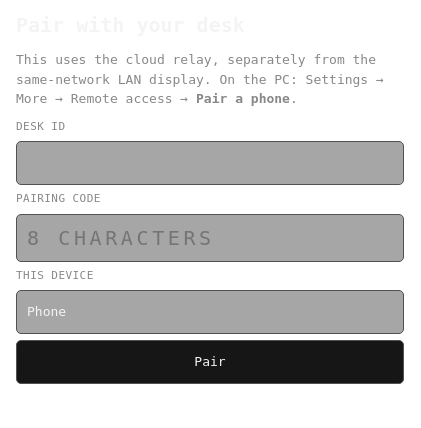
PairScreen › refuses an empty code before making a request
Type "desk-42" into the field with test id "pair-desk" at point(210, 163), box [16,141,404,185]
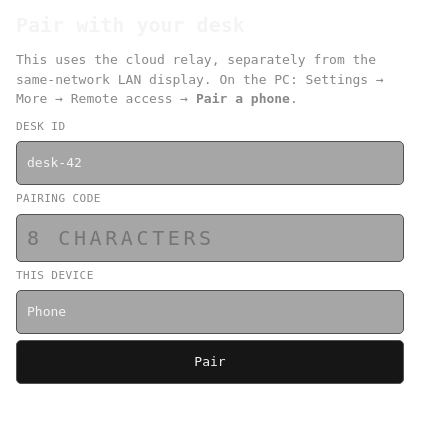
Submit the form with test id "pair-form", box [16,118,404,384]
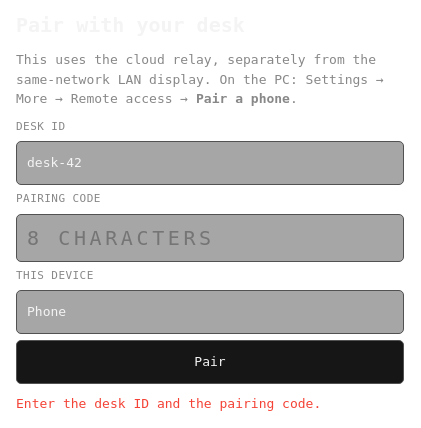
Expected: the message with test id "pair-error" shows "Enter the desk ID", [16,396,321,411]
